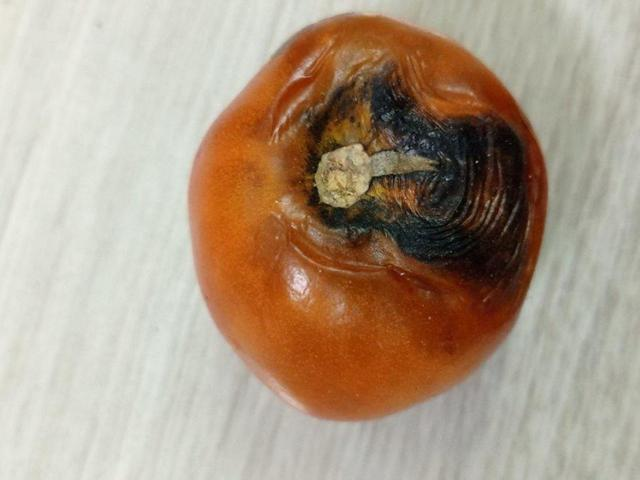defect: (181, 10, 553, 426)
